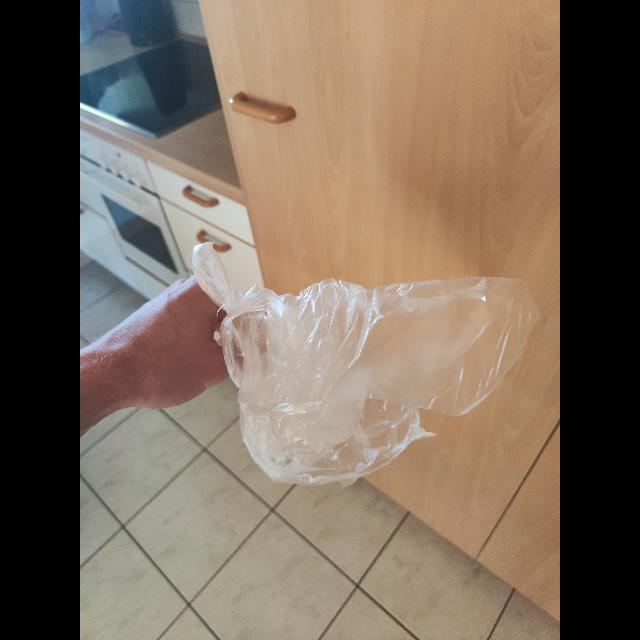Plastic: (187, 240, 538, 490)
